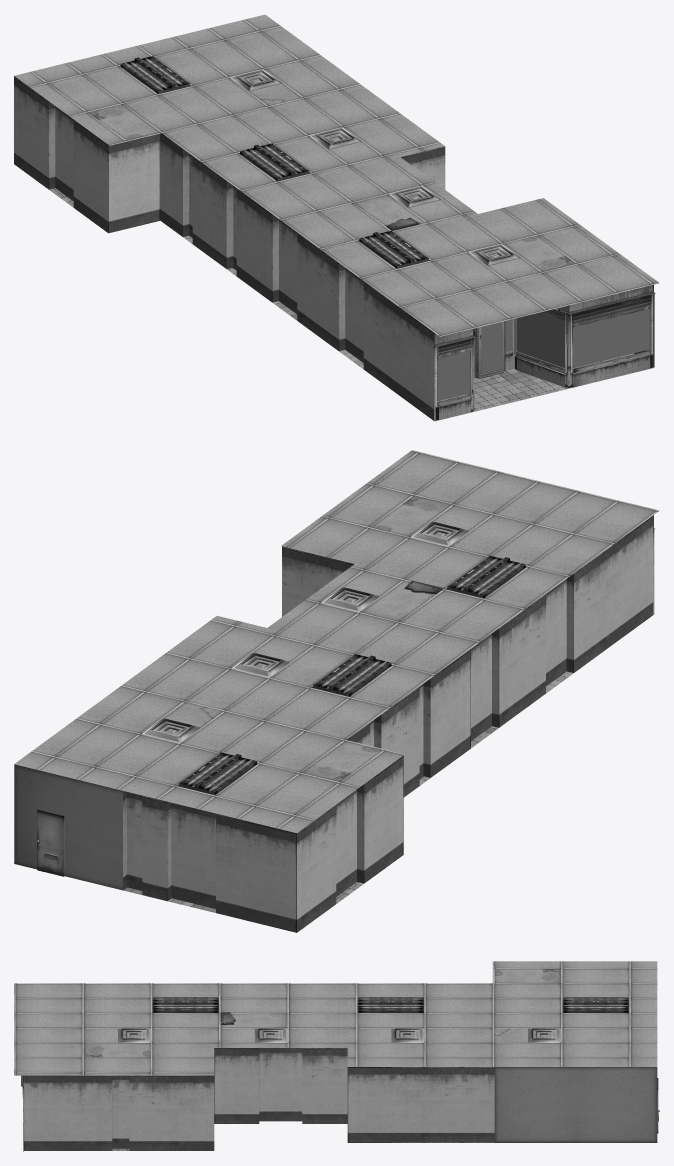
Rendered from ruby_palace_interior.fbx.
3 views of the same model, one above another, from view 1: azimuth 30°, elevation 25°; view 2: azimuth 150°, elevation 25°; view 3: azimuth 270°, elevation 25° (orthographic). The views are drawn at different scales.
Parts seen in each view (by area): view 1: ruby_palace_ceiling, walls, interior_exit, ruby_palace_windows, floor, exit_door; view 2: ruby_palace_ceiling, walls, backroom_walls, backdoor, floor; view 3: ruby_palace_ceiling, walls, backroom_walls.
Boxes of the visible parts, x1,y1,x2,y2 form: ruby_palace_ceiling: [14, 14, 659, 336]; walls: [14, 76, 653, 420]; interior_exit: [434, 285, 655, 421]; ruby_palace_windows: [437, 309, 649, 400]; floor: [49, 188, 652, 421]; exit_door: [477, 321, 503, 378]; ruby_palace_ceiling: [14, 450, 659, 833]; walls: [123, 515, 653, 932]; backroom_walls: [14, 764, 122, 890]; backdoor: [37, 809, 64, 876]; floor: [123, 625, 639, 912]; ruby_palace_ceiling: [14, 961, 657, 1075]; walls: [23, 1048, 494, 1150]; backroom_walls: [494, 1067, 657, 1142].
Bounding box in the file's own units: 1249 × 412 × 2989.
